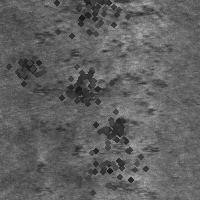rolled-in_scale: (40, 61, 158, 191), (70, 114, 164, 200), (35, 1, 171, 58), (41, 0, 133, 50), (54, 60, 106, 112), (88, 103, 138, 153), (2, 45, 44, 87)
